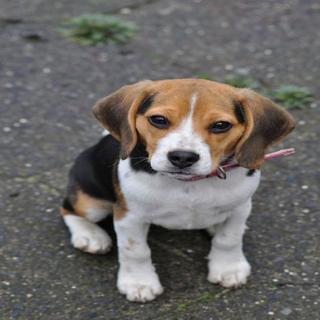dog: (92, 76, 303, 185)
nose: (165, 144, 202, 170)
